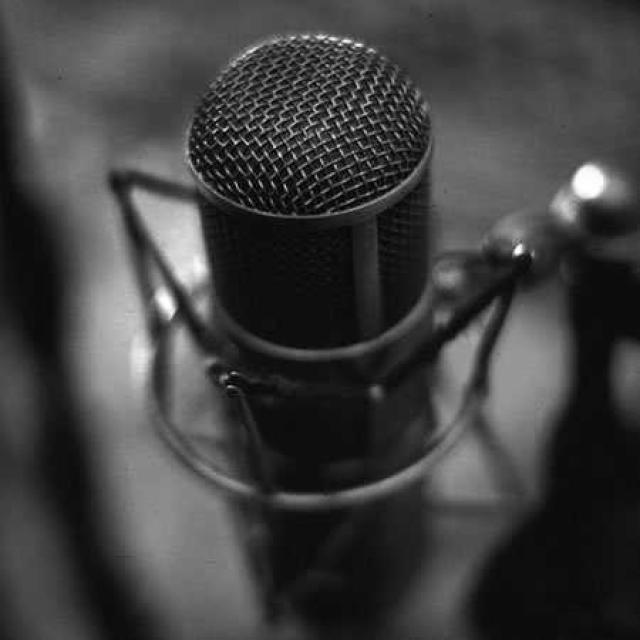microphone: (184, 39, 434, 434)
